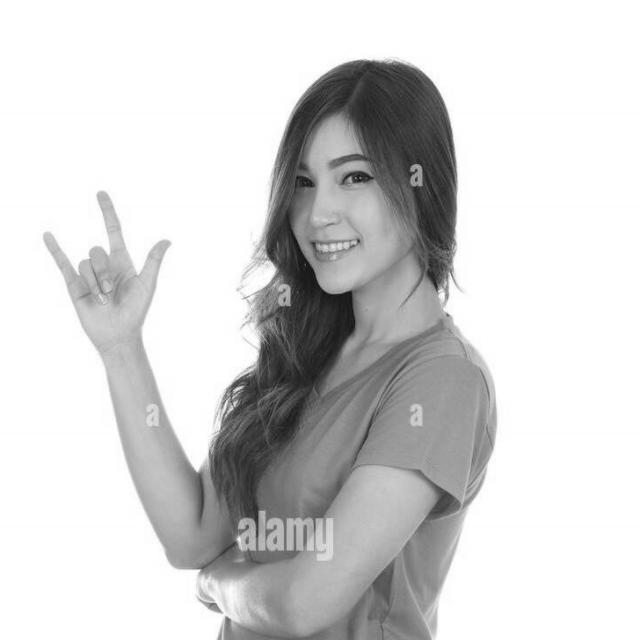i love you: (37, 183, 178, 354)
